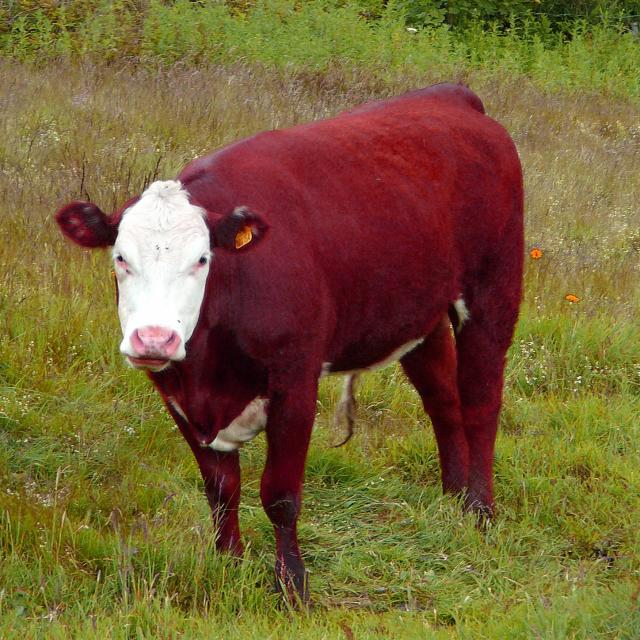cow: (56, 82, 524, 598)
